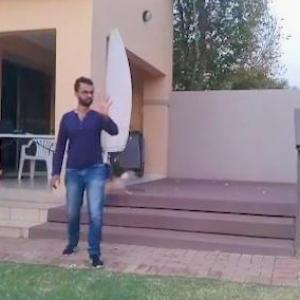follow_hand: (88, 86, 118, 120)
